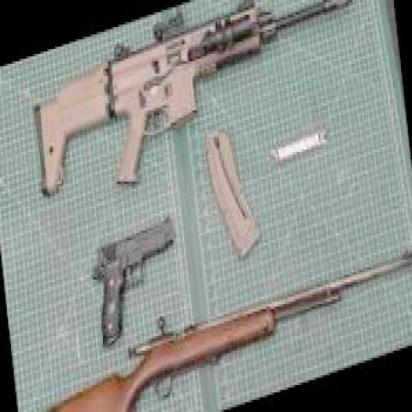Gun: (27, 0, 362, 196), (20, 268, 412, 412)
